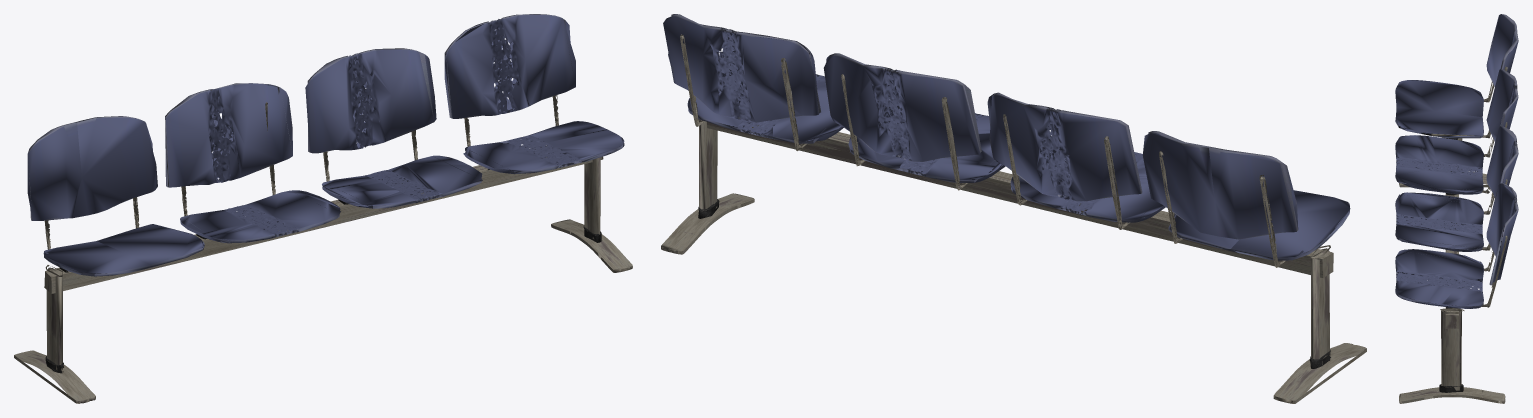
The model's file is waitingroom.glb.
The picture shows the model from 3 angles, left to right: view 1: azimuth 30°, elevation 25°; view 2: azimuth 150°, elevation 25°; view 3: azimuth 270°, elevation 25°; orthographic projection. The views are drawn at different scales.
Visible parts, largest first — view 1: stange .002; view 2: stange .002; view 3: stange .002.
Part boxes in pixels (<box>): stange .002: <box>14,14,632,403</box>; stange .002: <box>661,14,1366,403</box>; stange .002: <box>1395,14,1518,403</box>.
Bounding box in the file's own units: 1.97 × 0.7232 × 0.4574.
4 materials, 4 textured.
